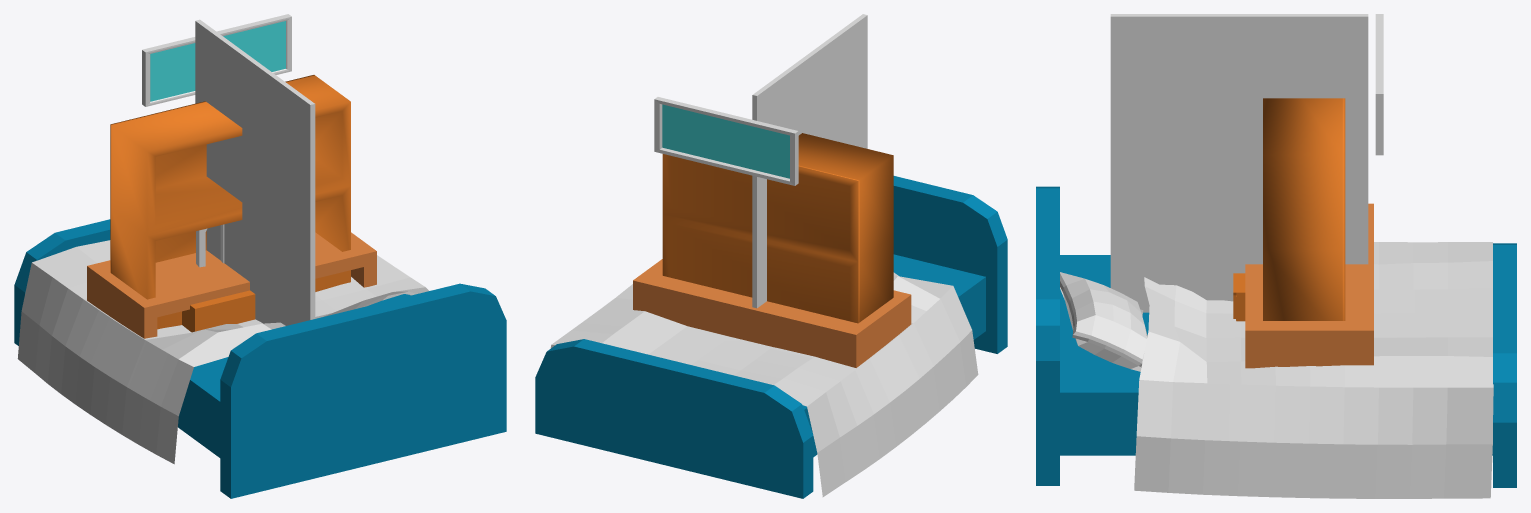
Rendered from HouseItems.fbx.
The picture shows the model from 3 angles, left to right: view 1: azimuth 30°, elevation 25°; view 2: azimuth 150°, elevation 25°; view 3: azimuth 270°, elevation 25°; orthographic projection. The views are drawn at different scales.
Visible parts, largest first — view 1: Bed, Comforter, Door, BedStand.001, Desk, Window.001, BedStand, DeskChair; view 2: Bed, BedStand.001, Comforter, Desk, Door, Window.001; view 3: Comforter, Door, Bed, BedStand.001, Desk, Pillow, Window.001, BedStand.
Boxes of the visible parts, x1,y1,x2,y2 form: Bed: (14,219,506,498); Comforter: (17,240,428,464); Door: (195,19,315,325); BedStand.001: (110,75,350,329); Desk: (87,232,376,338); Window.001: (142,14,291,106); BedStand: (182,290,255,332); DeskChair: (196,224,224,267); Bed: (535,176,1007,498); BedStand.001: (662,133,893,323); Comforter: (550,272,978,497); Desk: (633,259,911,367); Door: (752,14,867,308); Window.001: (654,97,798,185); Comforter: (1134,242,1493,498); Door: (1110,14,1368,312); Bed: (1036,186,1516,487); BedStand.001: (1263,98,1345,320); Desk: (1245,203,1373,368); Pillow: (1060,272,1147,371); Window.001: (1375,14,1383,155); BedStand: (1233,273,1245,321).
Size of the model in its own units: 118 by 139 by 138.
